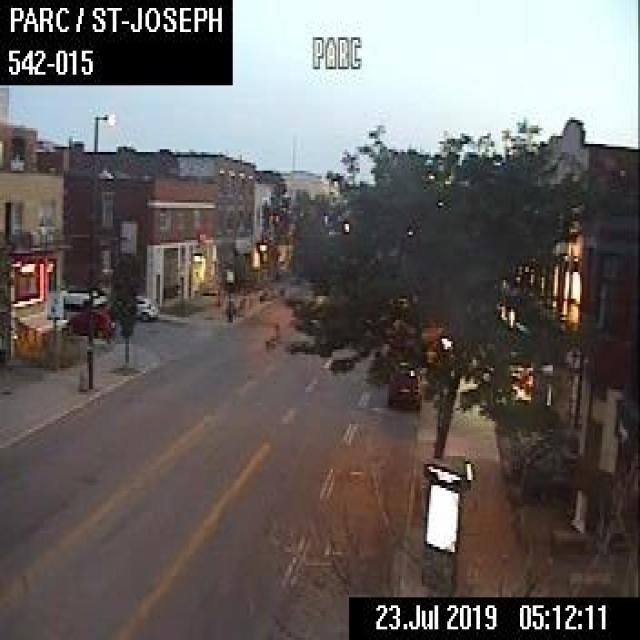vehicle: (386, 361, 422, 409), (60, 306, 114, 336), (62, 281, 106, 306), (135, 288, 157, 320)
